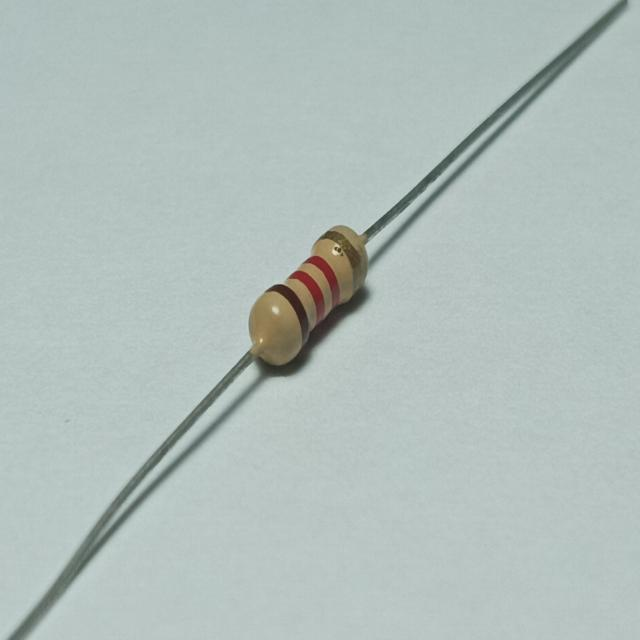1.2k ohms: (247, 222, 364, 370)
